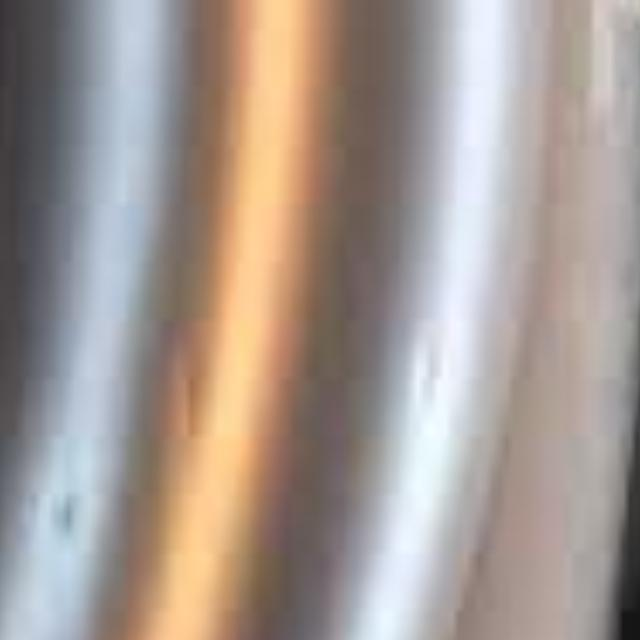dents: (408, 308, 476, 454), (166, 323, 208, 468), (50, 446, 100, 555)
